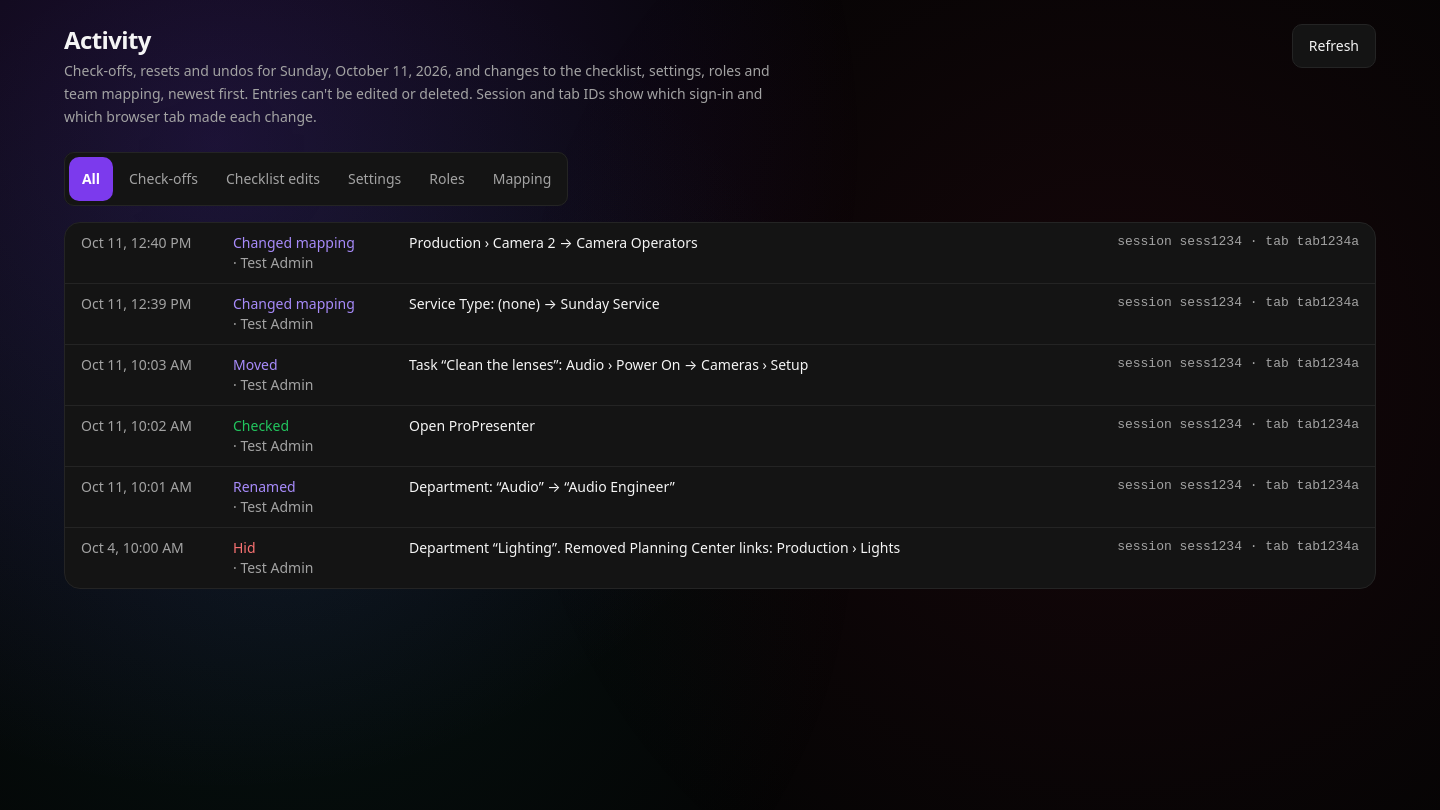
Test: Activity › shows team mapping changes in words, under their own filter (US-15)
The image size is (1440, 810).
expect the text "Open ProPresenter" is shown: met, box [409,416,535,435]
expect the text "Production › Camera 2 → Camera Operators" is shown: met, box [409,233,698,252]
Click the button "Mapping".
click(522, 179)  # box [481,157,563,201]
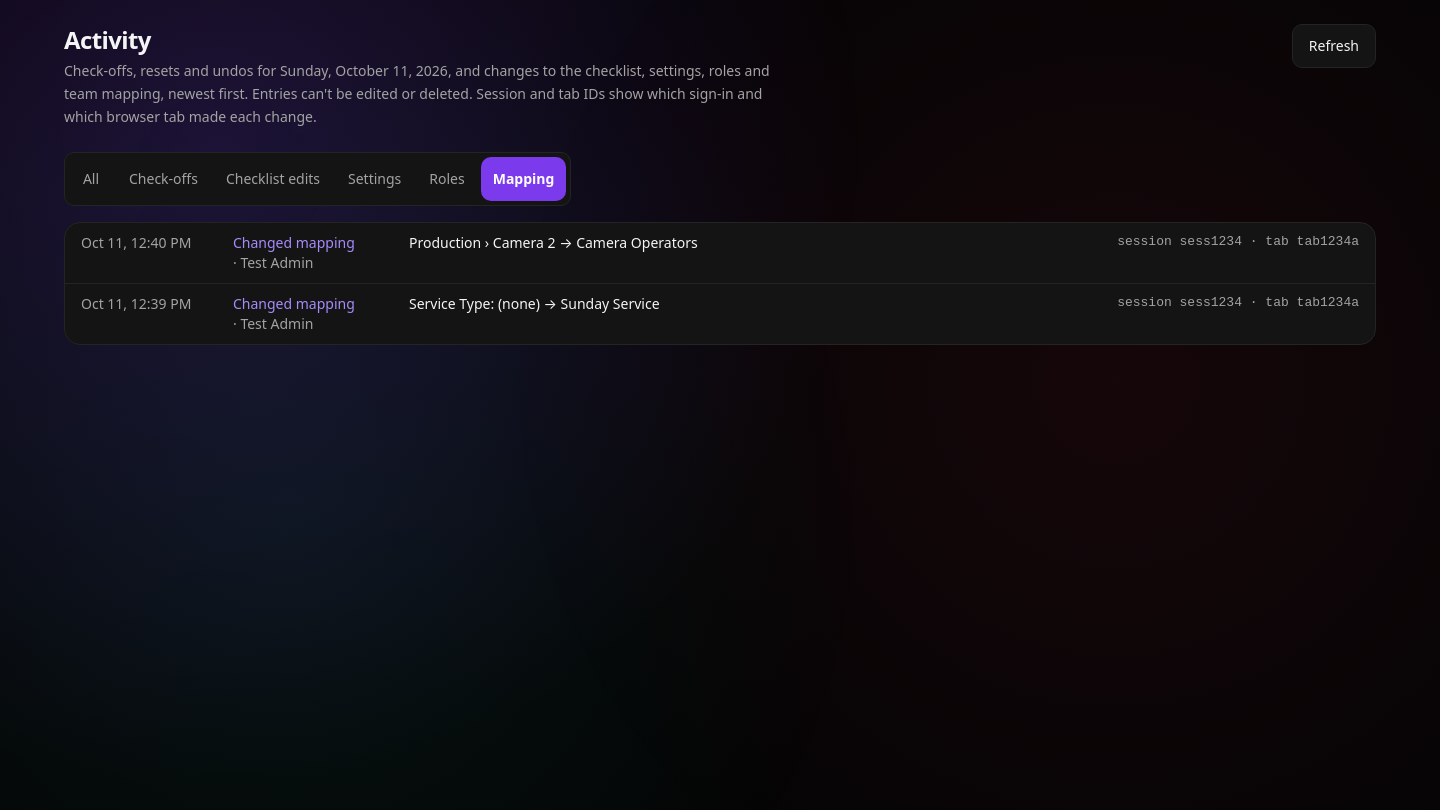
expect the list item that starts with "Oct 11, 12:39 PM" shows "Service Type: (none) → Sunday Service": met, box [409,294,660,313]
expect the number of list items is 2: met, box [65,223,1375,284]; [65,284,1375,344]
